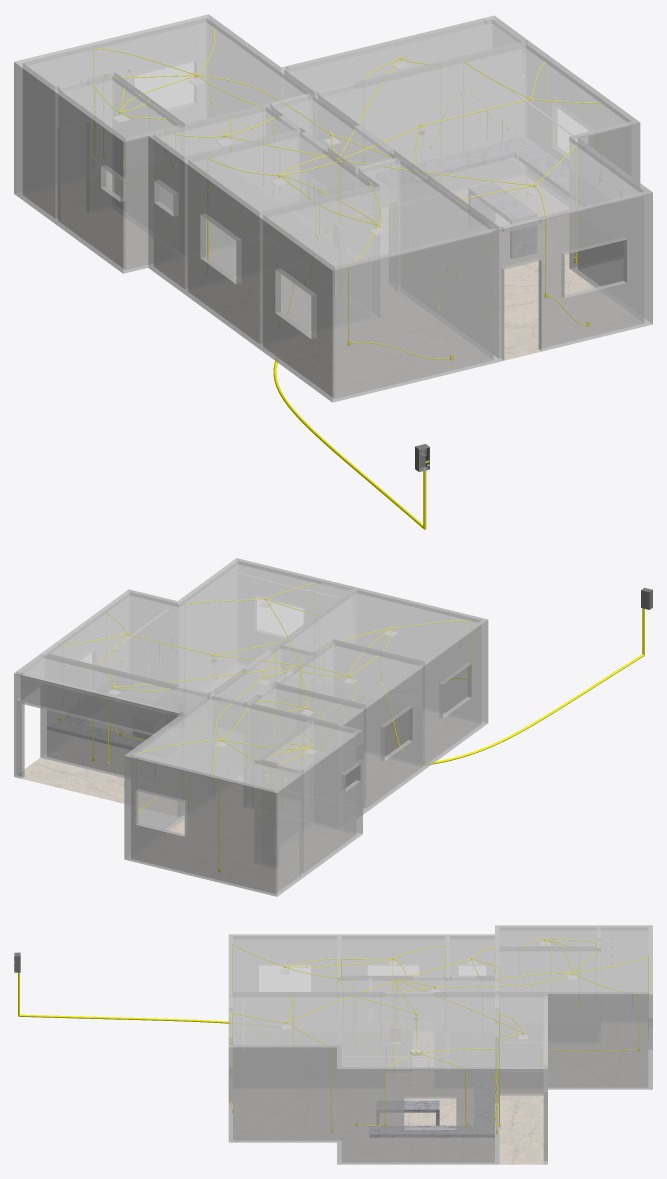
File: modelo.glb
3 views of the same model, one above another, from view 1: azimuth 30°, elevation 25°; view 2: azimuth 150°, elevation 25°; view 3: azimuth 270°, elevation 25° (orthographic). The views are drawn at different scales.
Parts seen in each view (by area): view 1: Geom3D (×5), Geom3D_190Ig6$vDFMfDLYK1KiudZ_El72; view 2: Geom3D (×4), Geom3D_190Ig6$vDFMfDLYK1KiudZ_El72; view 3: Geom3D (×5), Geom3D_190Ig6$vDFMfDLYK1KiudZ_El72.
Boxes of the visible parts, x1,y1,x2,y2 form: Geom3D (×5): (14, 14, 652, 402); Geom3D_190Ig6$vDFMfDLYK1KiudZ_El72: (273, 357, 426, 528); Geom3D (×4): (14, 558, 488, 896); Geom3D_190Ig6$vDFMfDLYK1KiudZ_El72: (423, 608, 644, 765); Geom3D (×5): (228, 925, 652, 1164); Geom3D_190Ig6$vDFMfDLYK1KiudZ_El72: (18, 972, 394, 1072).
Bounding box in the file's own units: 10.7 × 3.22 × 18.44.
Materials: 39 (2 with a texture image).
